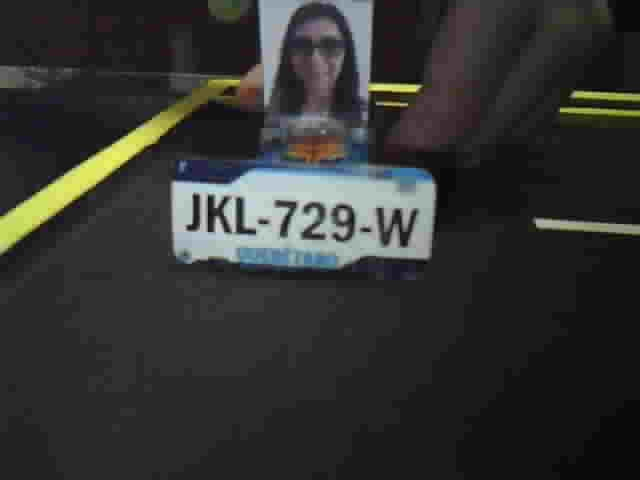PLACA: (167, 153, 437, 285)
ROSTRO: (266, 1, 369, 126)
